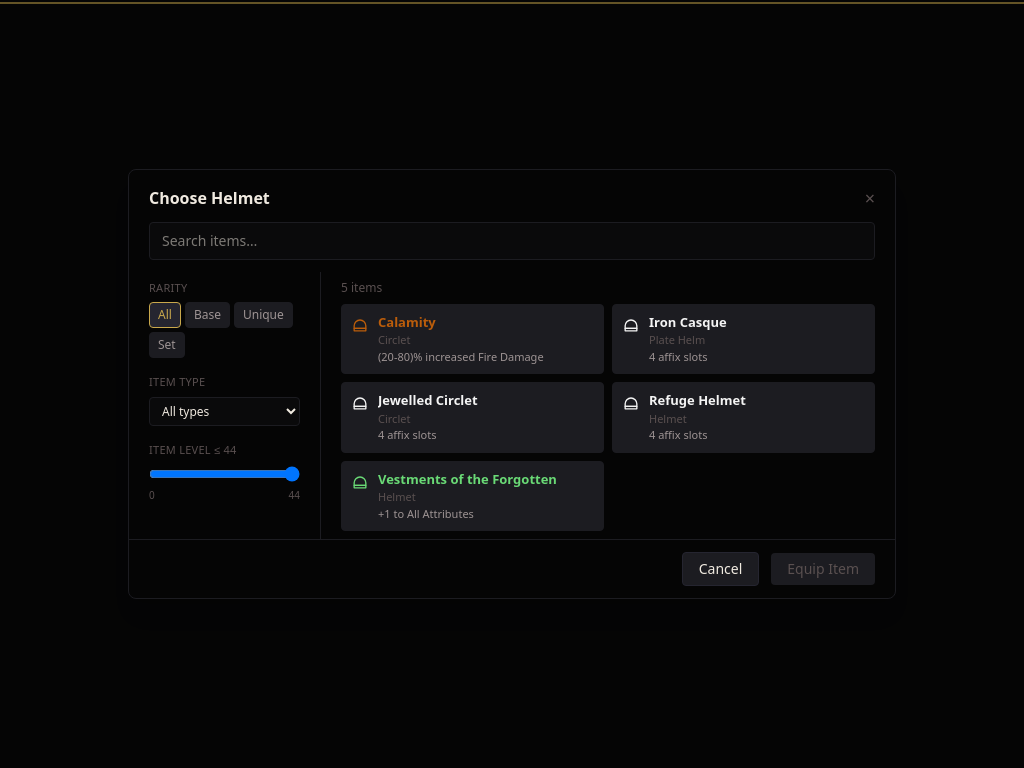
Test: ItemPickerModal › set cards show real set data, never a fabricated "N affix slots" count
This screenshot has width=1024, height=768.
Click the button "Set": (167, 345) [149, 332, 185, 358]
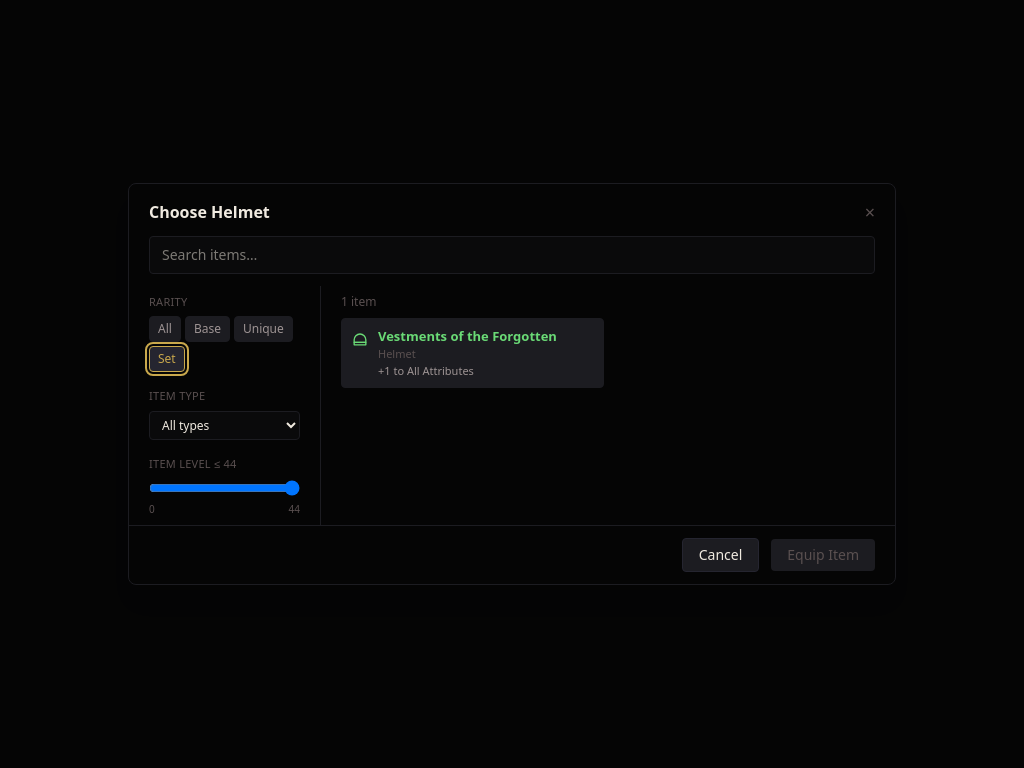
Expected: the text "Vestments of the Forgotten" is shown, [378, 327, 557, 346]
Expected: the text "affix slots" is gone
